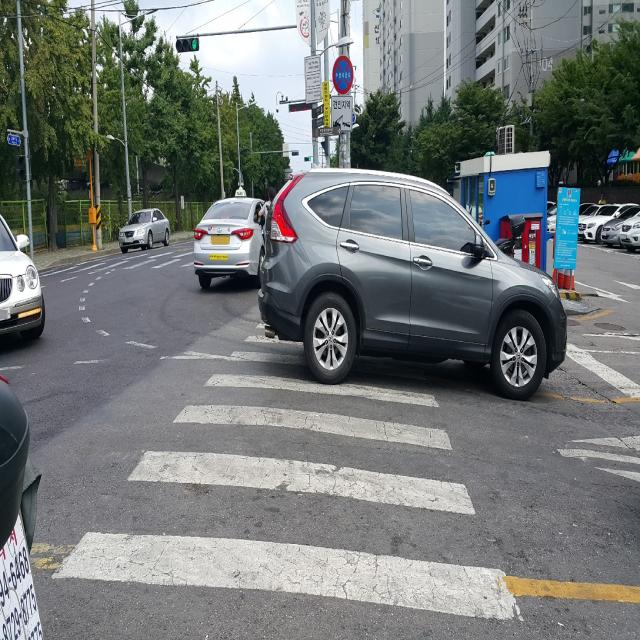횡단보도: (48, 317, 528, 625), (114, 252, 188, 267)
